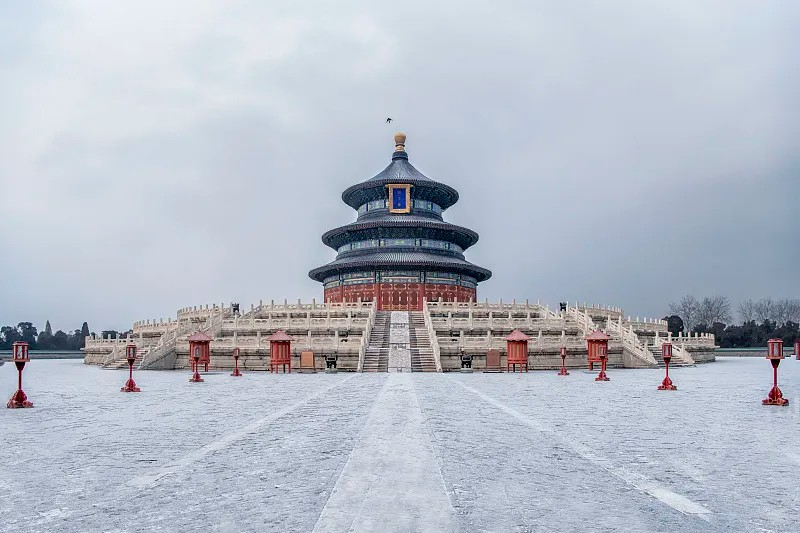Heaven: (302, 134, 498, 311)
